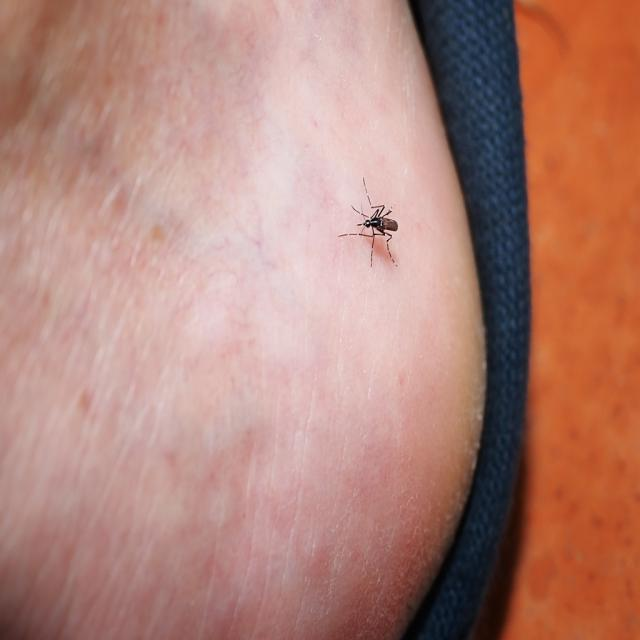albopictus: (336, 174, 406, 270)
